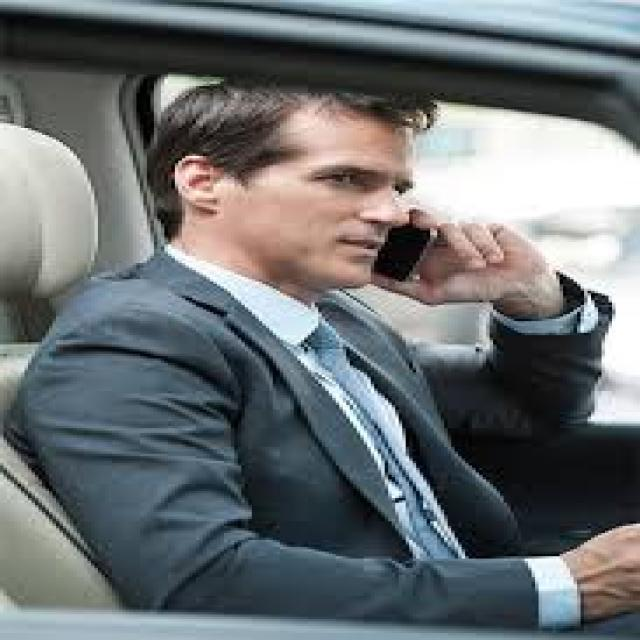using_phone: (135, 110, 546, 308)
